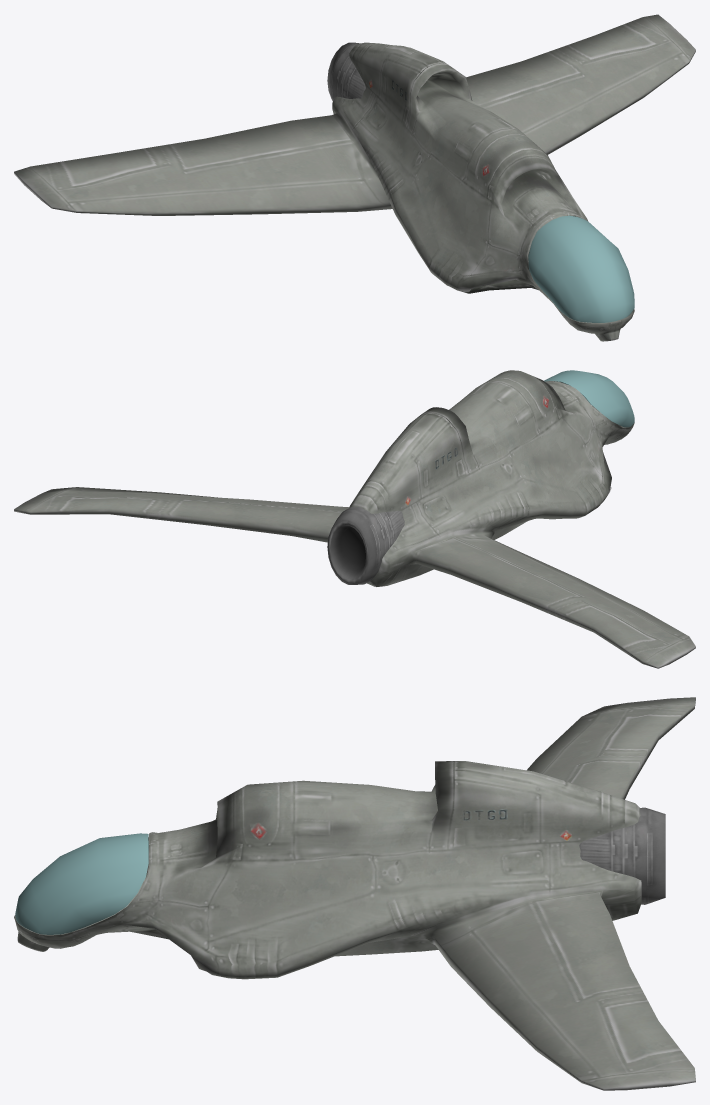
File: Space_Shooter.fbx
3 views of the same model, one above another, from view 1: azimuth 30°, elevation 25°; view 2: azimuth 150°, elevation 25°; view 3: azimuth 270°, elevation 25° (orthographic). The views are drawn at different scales.
Visible parts, largest first — view 1: polySurface1; view 2: polySurface1; view 3: polySurface1.
Boxes of the visible parts, bbox=[...] form: polySurface1: bbox=[14, 14, 695, 341]; polySurface1: bbox=[14, 370, 695, 668]; polySurface1: bbox=[14, 697, 695, 1090].
Bounding box in the file's own units: 26.26 × 5.96 × 19.77.
Materials: 1 (1 with a texture image).
